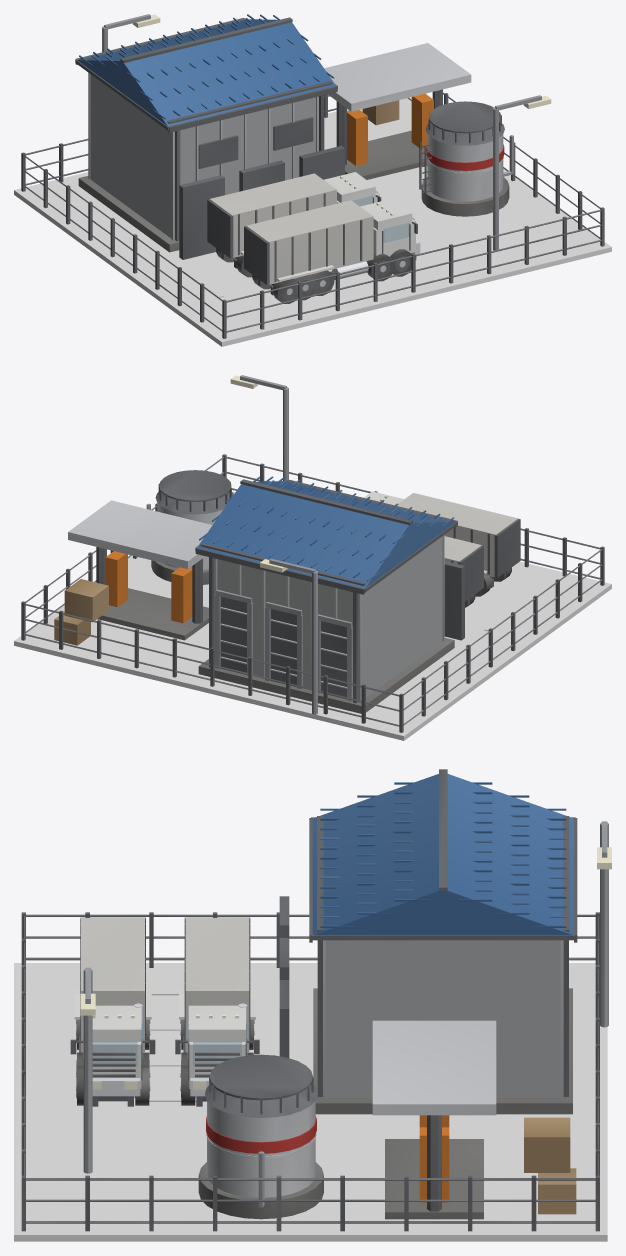
Rendered from Fleet_P2.fbx.
3 renders of one model, top to bottom at view 1: azimuth 30°, elevation 25°; view 2: azimuth 150°, elevation 25°; view 3: azimuth 270°, elevation 25°, orthographic. The views are drawn at different scales.
Parts seen in each view (by area): view 1: Fleet.Garage, Fleet.Yard, Fleet.Parked1, Fleet.FuelIsland, Fleet.Fence, Fleet.FuelTank, Fleet.Parked0, Fleet.Doors, Fleet.Lamp1, Fleet.Crates, Fleet.Lamp0; view 2: Fleet.Garage, Fleet.Yard, Fleet.FuelIsland, Fleet.Fence, Fleet.Parked1, Fleet.FuelTank, Fleet.Crates, Fleet.Doors, Fleet.Parked0, Fleet.Lamp0, Fleet.Lamp1; view 3: Fleet.Garage, Fleet.Yard, Fleet.FuelIsland, Fleet.FuelTank, Fleet.Fence, Fleet.Parked1, Fleet.Parked0, Fleet.Crates, Fleet.Lamp1, Fleet.Lamp0, Fleet.Doors, Fleet.Bays.
Part boxes in pixels (x1,y1,x2,y2): Fleet.Garage: (75, 14, 337, 252); Fleet.Yard: (14, 98, 611, 346); Fleet.Parked1: (244, 199, 420, 303); Fleet.FuelIsland: (324, 43, 471, 179); Fleet.Fence: (21, 92, 604, 338); Fleet.FuelTank: (419, 101, 513, 216); Fleet.Parked0: (207, 172, 381, 277); Fleet.Doors: (179, 146, 344, 259); Fleet.Lamp1: (493, 95, 551, 250); Fleet.Crates: (362, 100, 399, 125); Fleet.Lamp0: (102, 14, 160, 52); Fleet.Garage: (195, 476, 457, 713); Fleet.Yard: (14, 491, 611, 740); Fleet.FuelIsland: (68, 500, 212, 640); Fleet.Fence: (21, 454, 604, 732); Fleet.Parked1: (364, 491, 520, 596); Fleet.FuelTank: (146, 470, 233, 584); Fleet.Crates: (54, 579, 108, 645); Fleet.Doors: (444, 561, 464, 640); Fleet.Parked0: (444, 536, 483, 607); Fleet.Lamp0: (260, 558, 317, 714); Fleet.Lamp1: (230, 375, 288, 480); Fleet.Garage: (309, 769, 577, 1114); Fleet.Yard: (14, 963, 607, 1241); Fleet.FuelIsland: (372, 1020, 496, 1219); Fleet.FuelTank: (198, 1054, 323, 1219); Fleet.Fence: (21, 912, 599, 1231); Fleet.Parked1: (70, 917, 155, 1106); Fleet.Parked0: (175, 917, 259, 1106); Fleet.Crates: (524, 1117, 576, 1214); Fleet.Lamp1: (80, 967, 95, 1173); Fleet.Lamp0: (597, 821, 611, 1027); Fleet.Doors: (279, 896, 289, 1057); Fleet.Bays: (149, 990, 206, 1101).
Bounding box in the file's own units: 2600 × 1050 × 2418.
